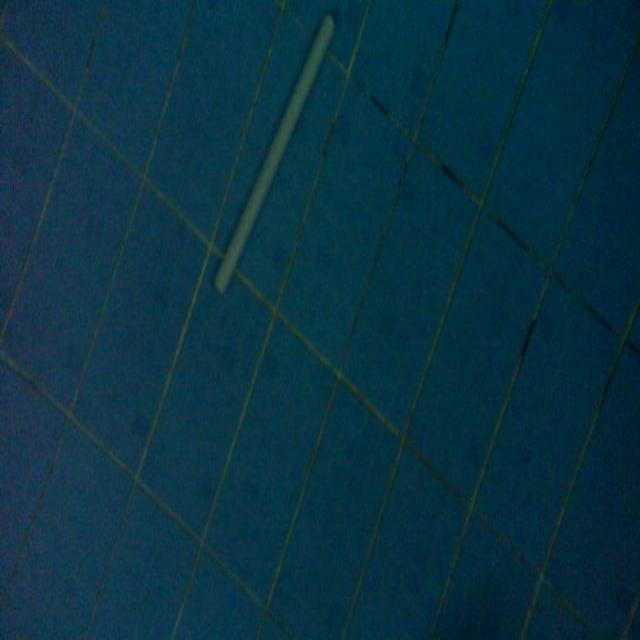Cube: (212, 11, 337, 295)
